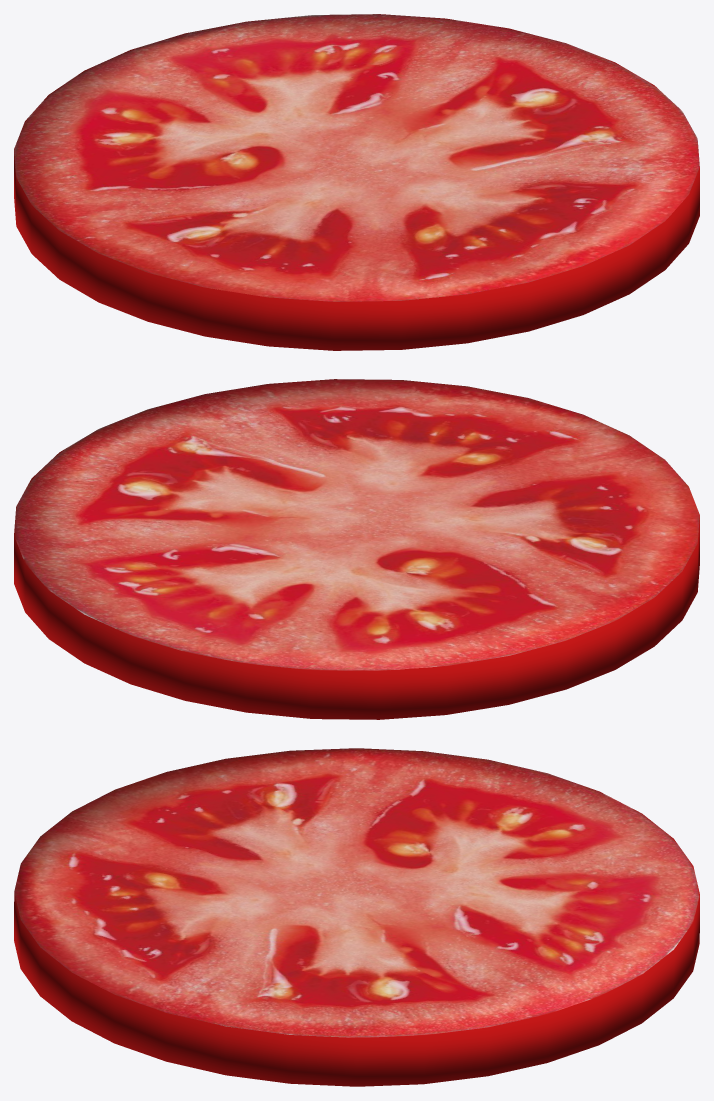
The model's file is слайс помидора.fbx.
The picture shows the model from 3 angles, top to bottom: view 1: azimuth 30°, elevation 25°; view 2: azimuth 150°, elevation 25°; view 3: azimuth 270°, elevation 25°; orthographic projection.
Visible parts, largest first — view 1: Окружность; view 2: Окружность; view 3: Окружность.
Boxes of the visible parts, box(x1,y1,x2,y2) form: Окружность: box(14, 14, 699, 350); Окружность: box(14, 379, 699, 719); Окружность: box(14, 748, 699, 1086).
Size of the model in its own units: 200 by 16.49 by 200.
